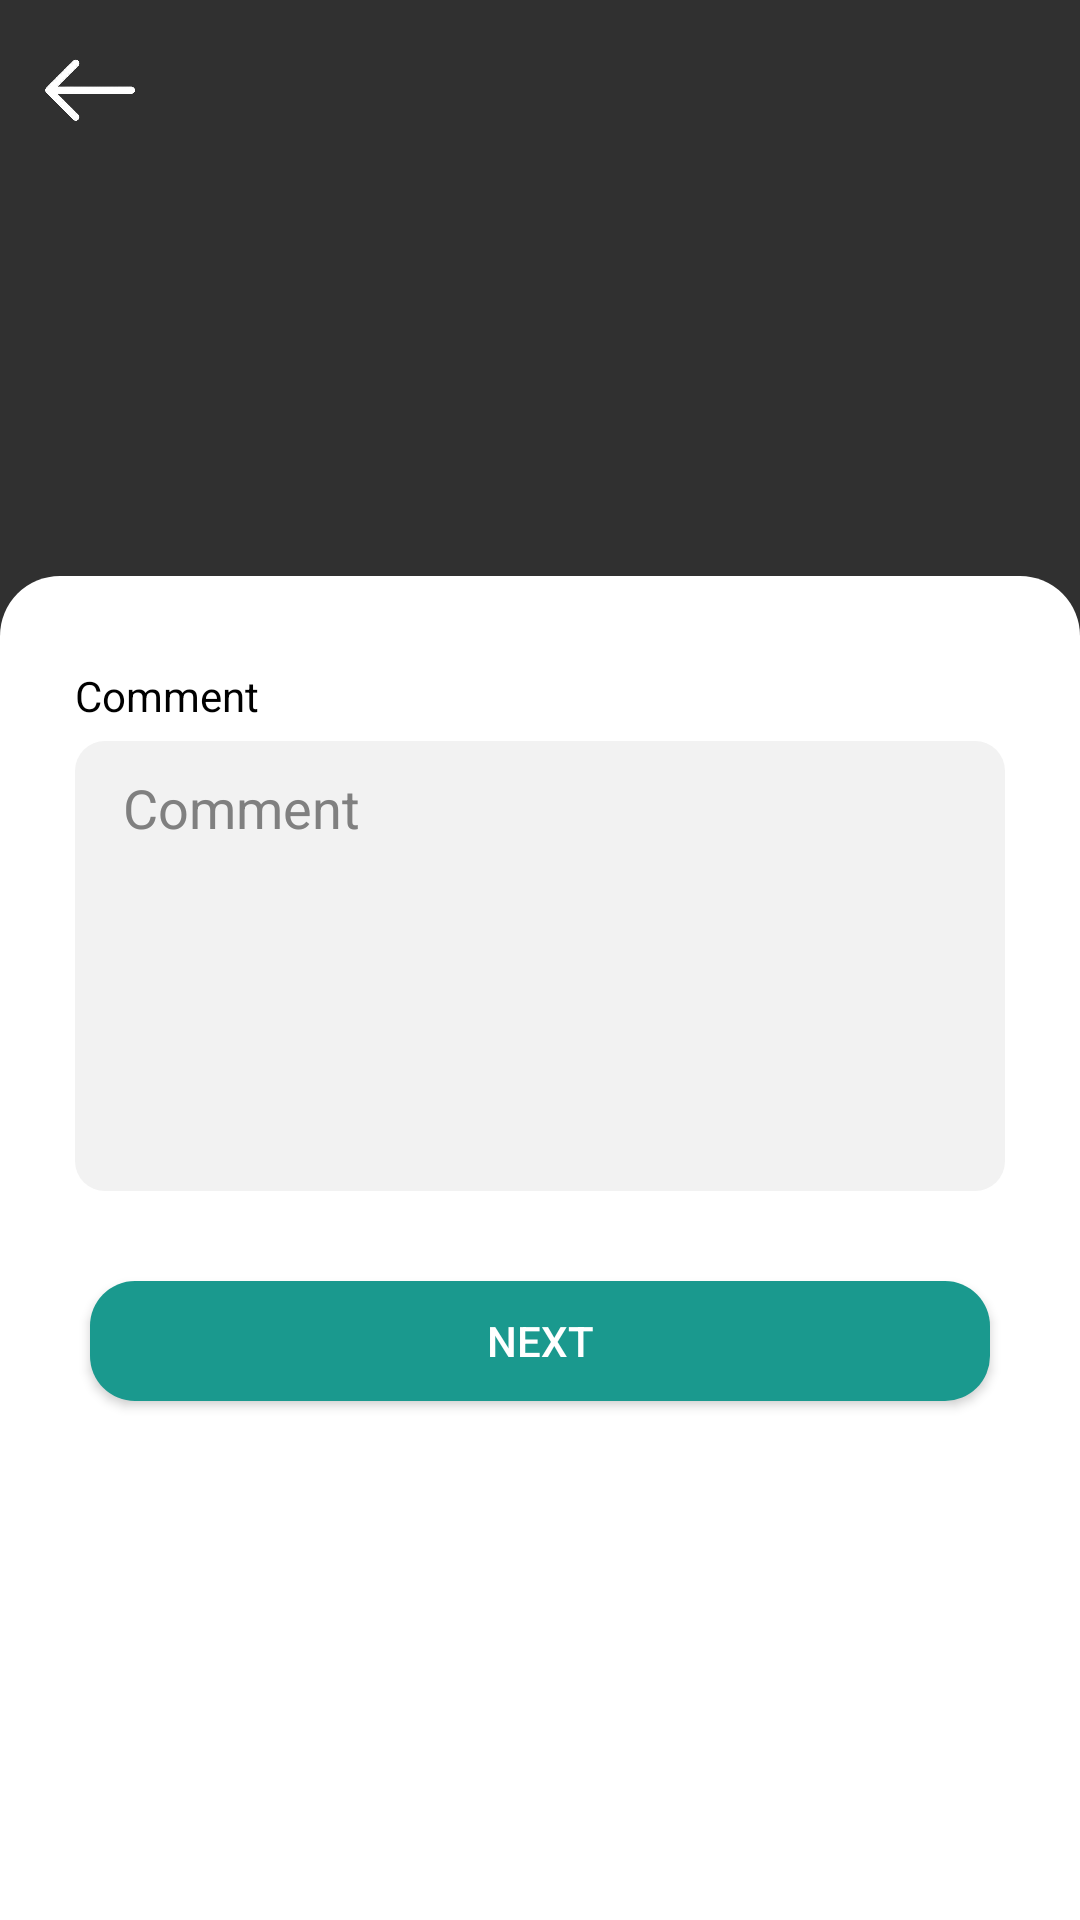

Locate icon controls on the screen. Image size 1080w x 1920h, boxes as (x1, y1, x2, y2).
back: (45, 59, 135, 121)
